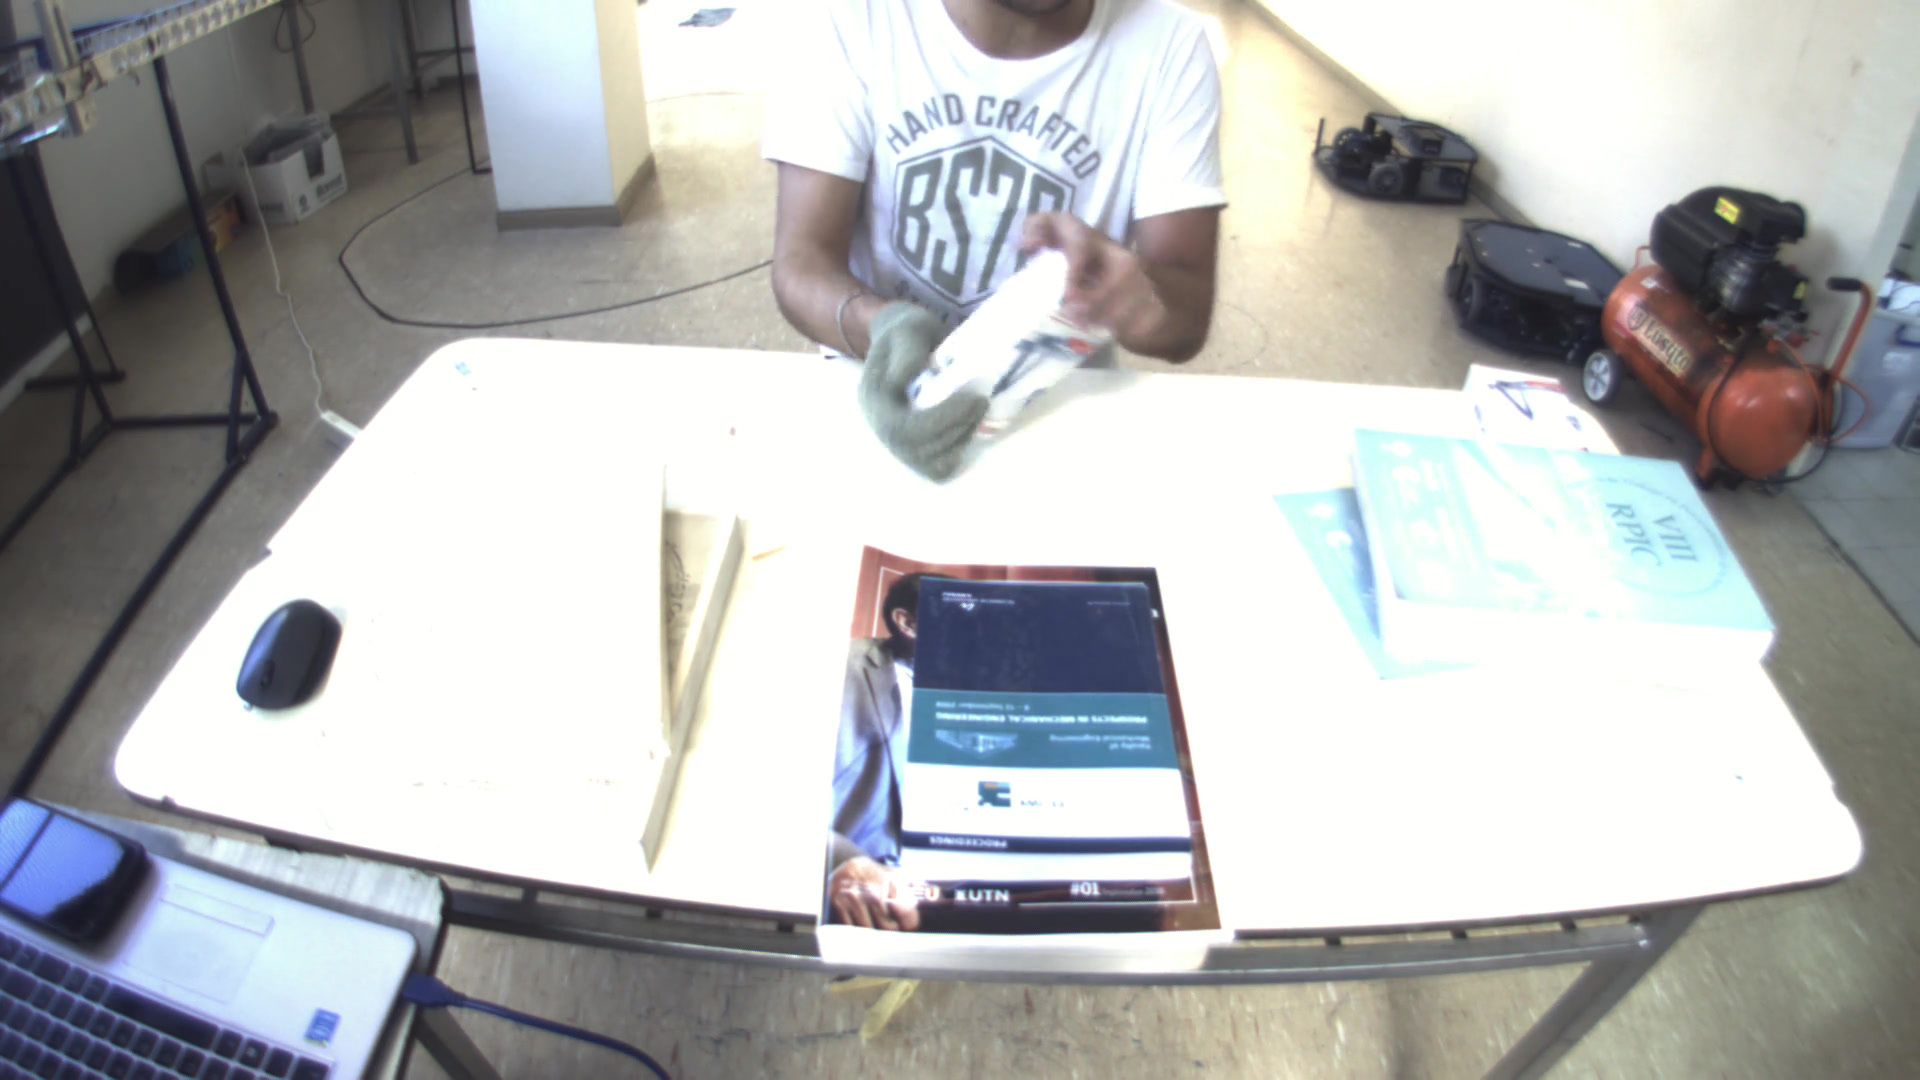hand: (843, 305, 990, 488), (1006, 206, 1168, 344)
